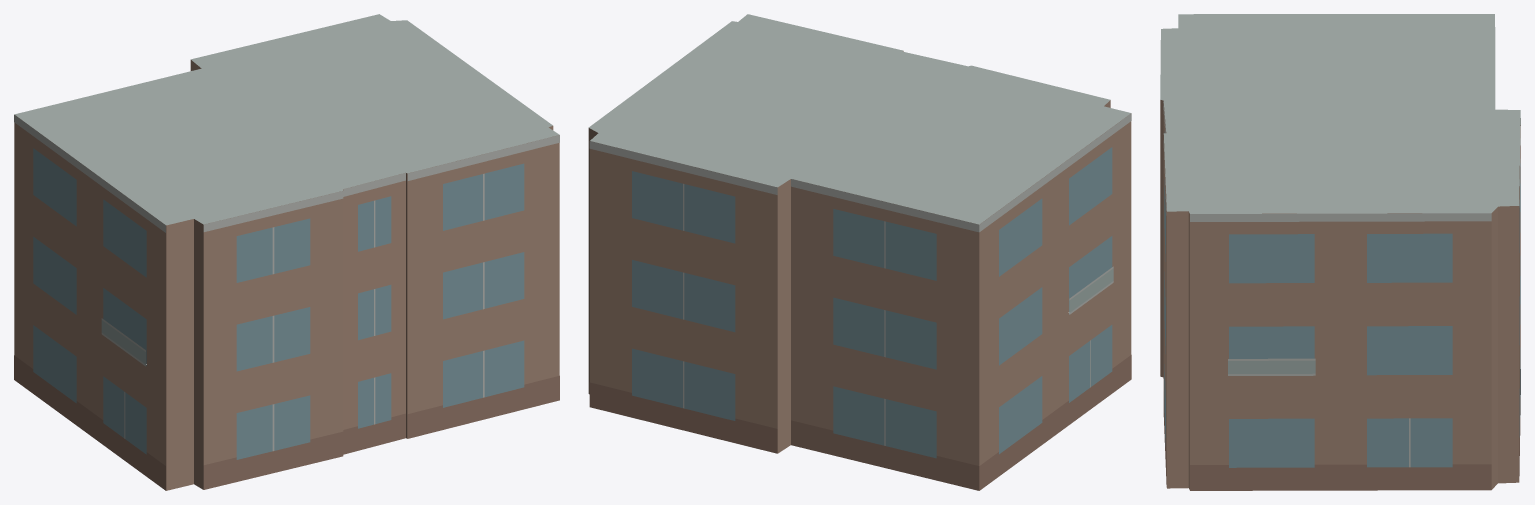
Rendered from survey-upis-32777908.glb.
The picture shows the model from 3 angles, left to right: view 1: azimuth 30°, elevation 25°; view 2: azimuth 150°, elevation 25°; view 3: azimuth 270°, elevation 25°; orthographic projection. The views are drawn at different scales.
Parts seen in each view (by area): view 1: survey-upis-32777908.tmp; view 2: survey-upis-32777908.tmp; view 3: survey-upis-32777908.tmp.
Boxes of the visible parts, x1,y1,x2,y2 form: survey-upis-32777908.tmp: (14, 14, 559, 490); survey-upis-32777908.tmp: (588, 14, 1131, 490); survey-upis-32777908.tmp: (1160, 14, 1520, 490).
Bounding box in the file's own units: 12.92 × 8.3 × 9.81.
